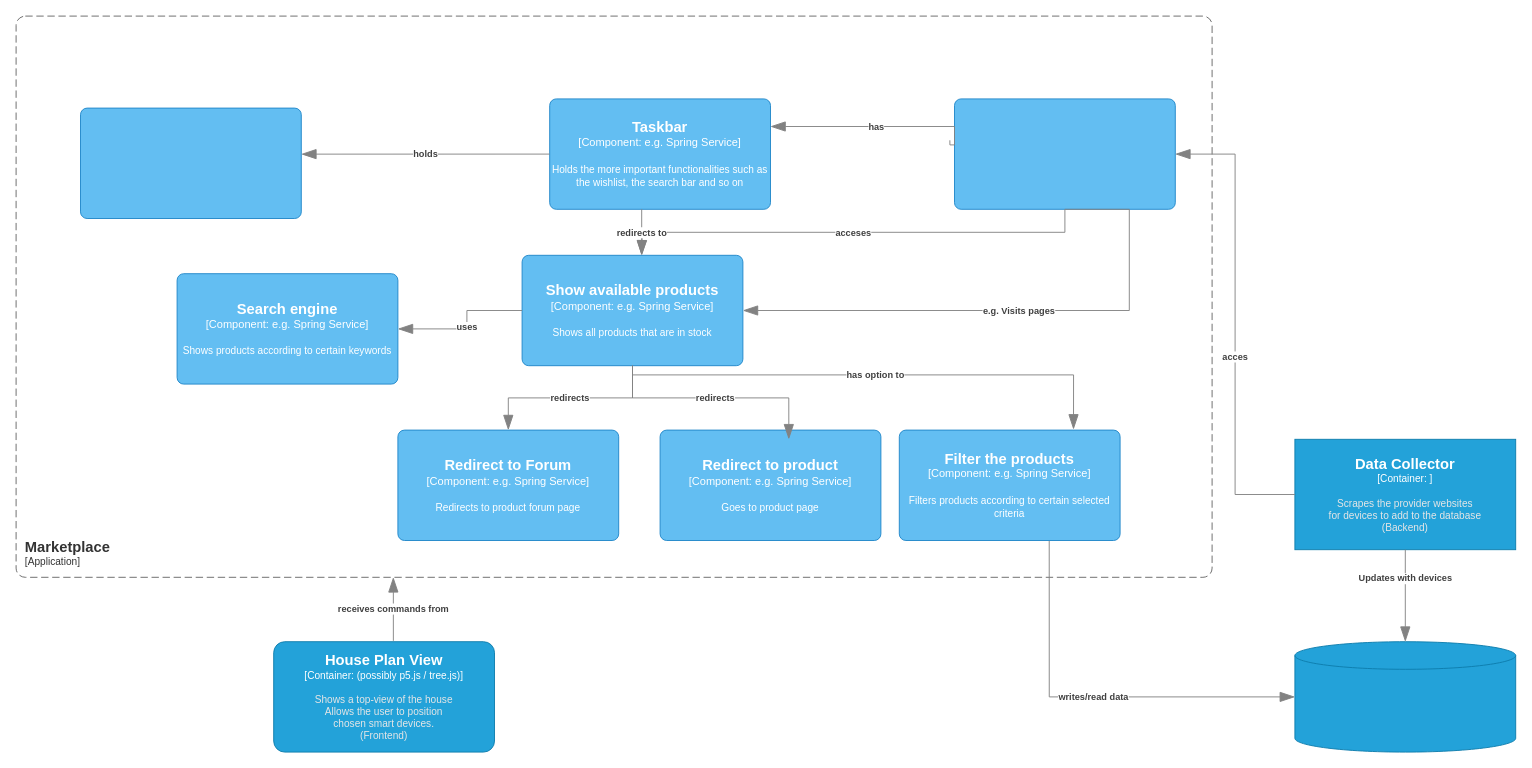
The diagram is 1532 pixels wide and 768 high, and some of its shapes have lost their labels. The centre of each missing label's shape, as x and y in pixels:
"Data Base [Container : ] (Database)" goes at (x=1405, y=696).
"Marketplace Container [: ]" goes at (x=1064, y=153).
"Wishlist [Component: e.g. Spring Service] List of desired products" goes at (x=190, y=162).
